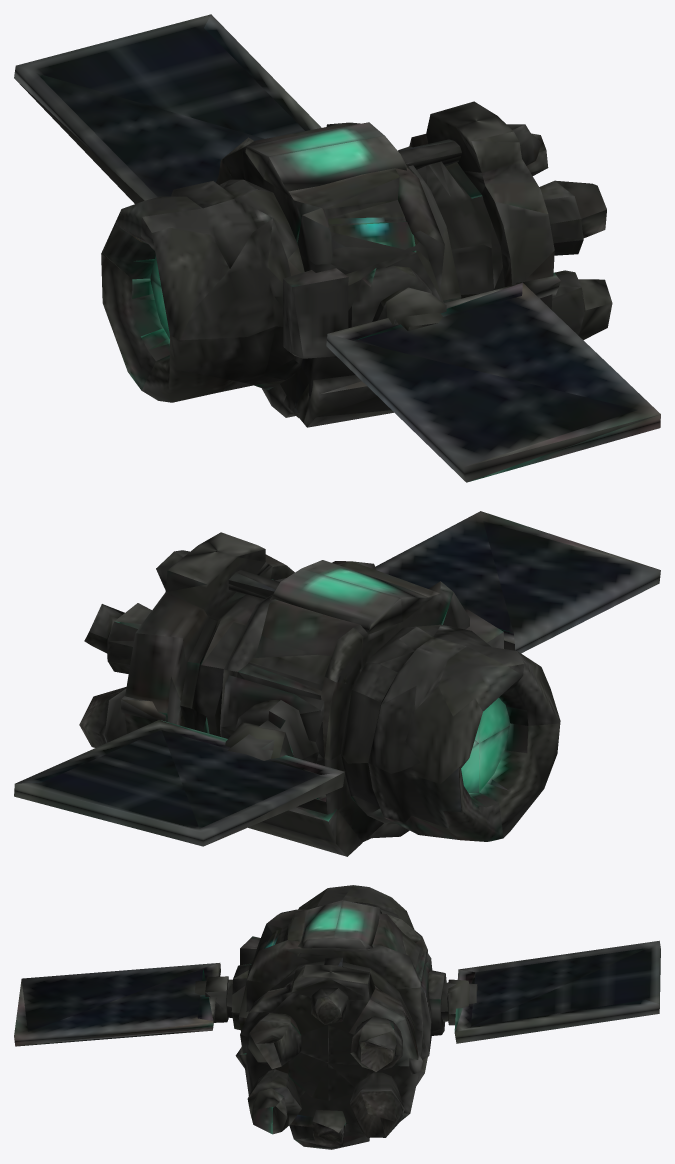
File: sattelite_2.glb
3 views of the same model, one above another, from view 1: azimuth 30°, elevation 25°; view 2: azimuth 150°, elevation 25°; view 3: azimuth 270°, elevation 25° (orthographic). The views are drawn at different scales.
Size of the model in its own units: 0.5332 by 0.2978 by 0.998.
1 material, 1 textured.
